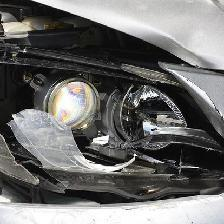broken_light: (7, 12, 219, 215)
